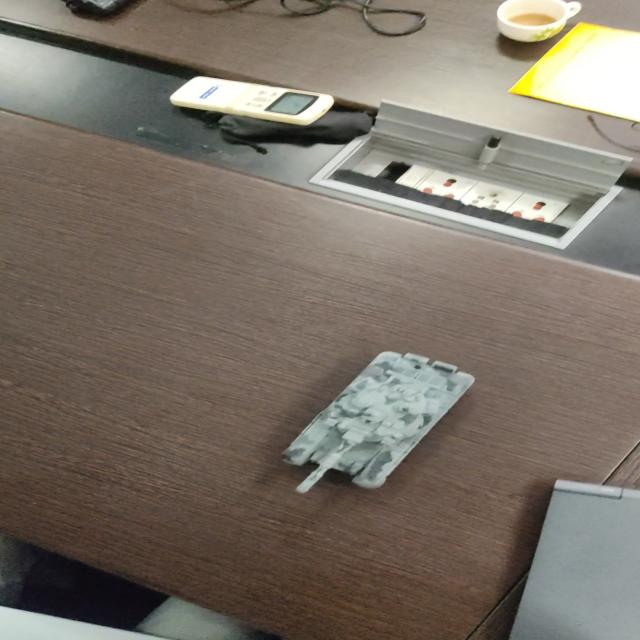tank: (274, 343, 484, 496)
